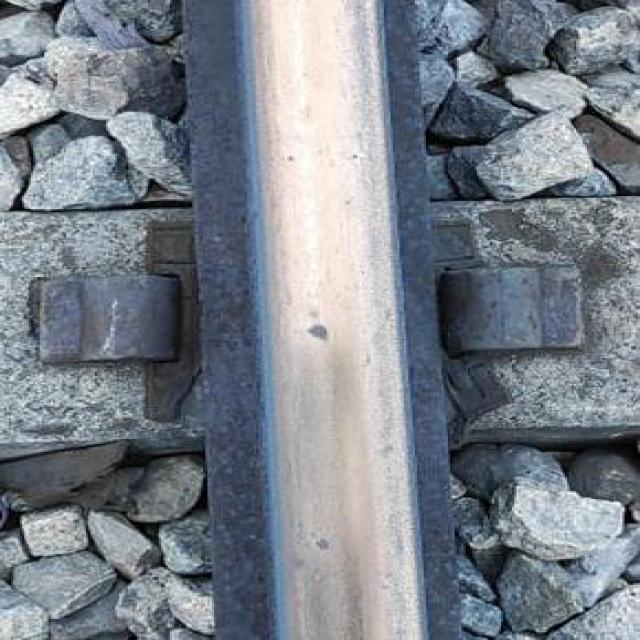Missing Fastener: (398, 235, 638, 381), (0, 253, 217, 407)
